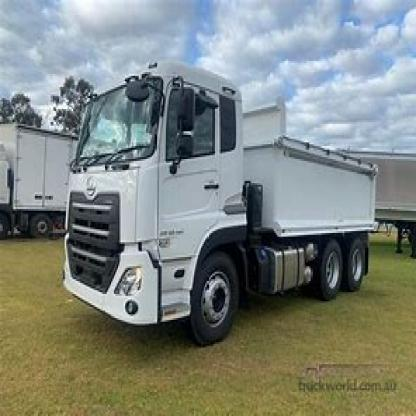dump_truck: (59, 55, 395, 357)
